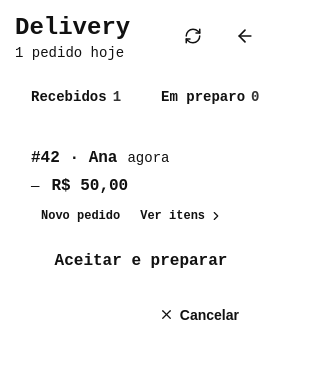
DeliveryModulo, itens do pedido › carga boa não busca de novo ao reabrir
Click the button "#42 · Ana agora — R$ 50,00 Novo pedido Ver itens".
click(141, 188)  # box [31,149,251,227]
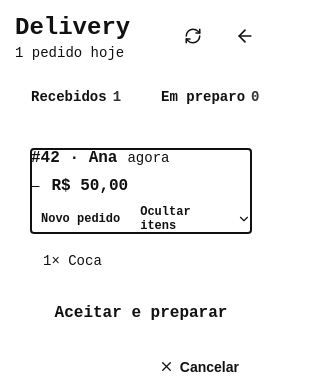
Now the text "1× Coca" is shown, box [43,253,102,269]
Click the button "#42 · Ana agora — R$ 50,00 Novo pedido Ocultar itens".
click(141, 191)  # box [31,149,251,233]
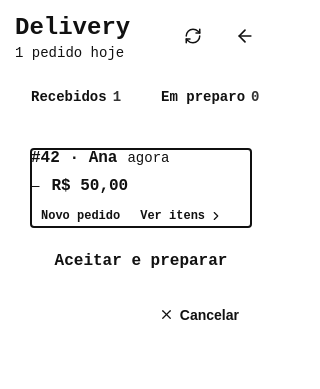
Click the button "#42 · Ana agora — R$ 50,00 Novo pedido Ver itens".
click(141, 188)  # box [31,149,251,227]
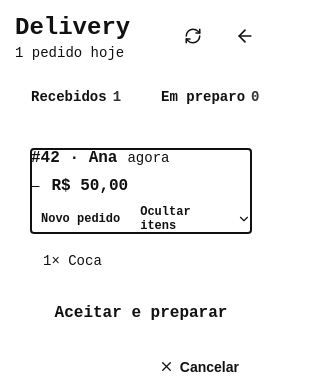
Now the text "1× Coca" is shown, box [43,253,102,269]
